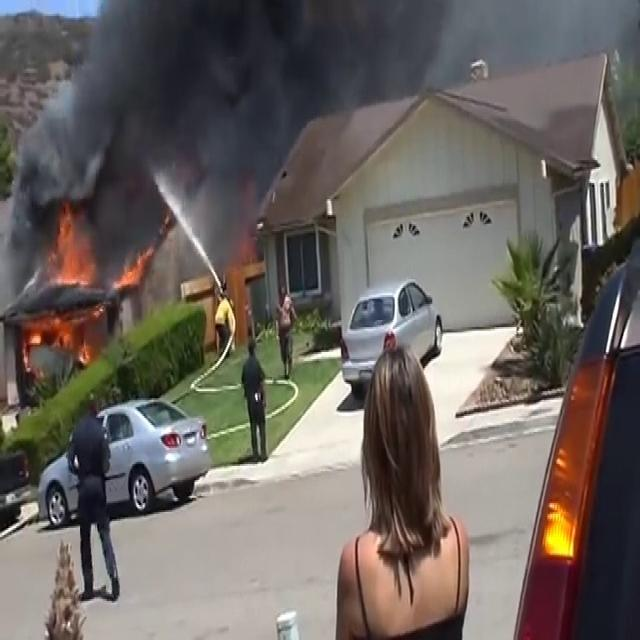Fire: (41, 206, 98, 306)
Smoke: (11, 0, 349, 261)
